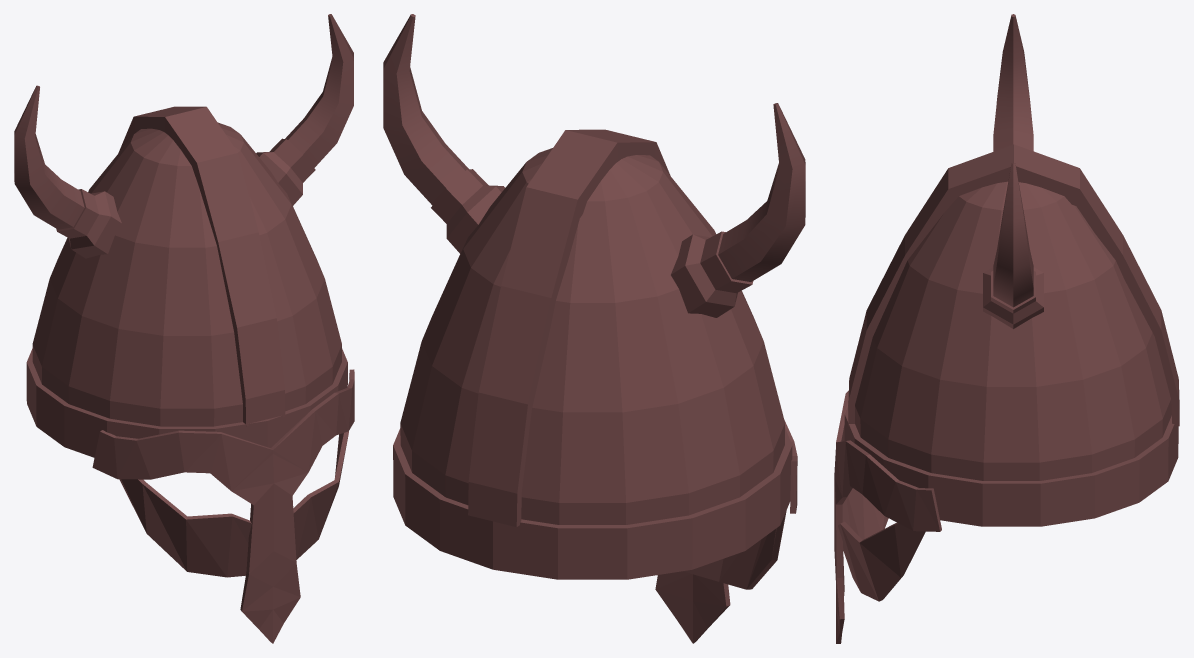
File: SM_helmet_norse_warlord.fbx
The picture shows the model from 3 angles, left to right: view 1: azimuth 30°, elevation 25°; view 2: azimuth 150°, elevation 25°; view 3: azimuth 270°, elevation 25°; orthographic projection. The views are drawn at different scales.
Parts seen in each view (by area): view 1: Object005; view 2: Object005; view 3: Object005.
Boxes of the visible parts, box(x1,y1,x2,y2) form: Object005: box(14, 14, 354, 643); Object005: box(383, 14, 805, 643); Object005: box(834, 14, 1179, 643).
Size of the model in its own units: 11.56 by 17.31 by 9.8.
